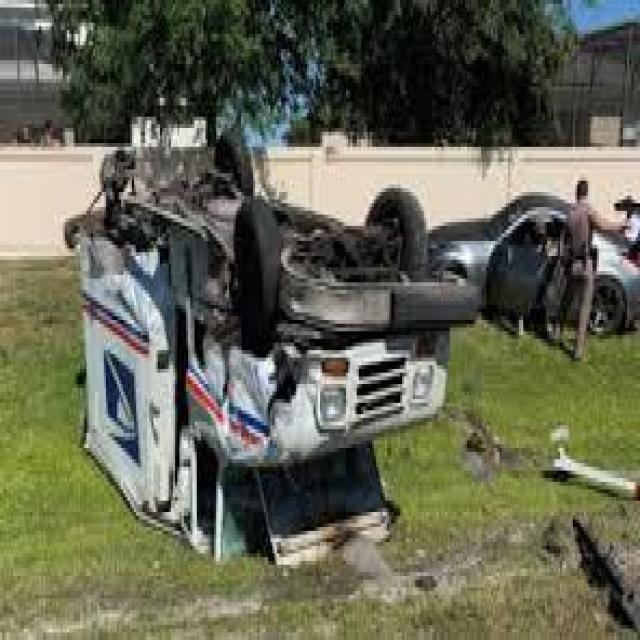accident: (66, 109, 481, 572)
